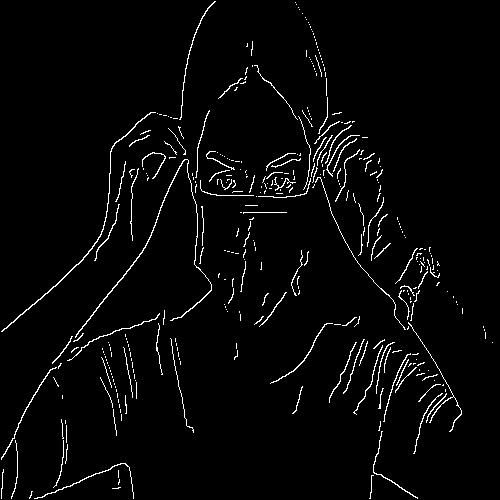mask: (183, 193, 331, 326)
